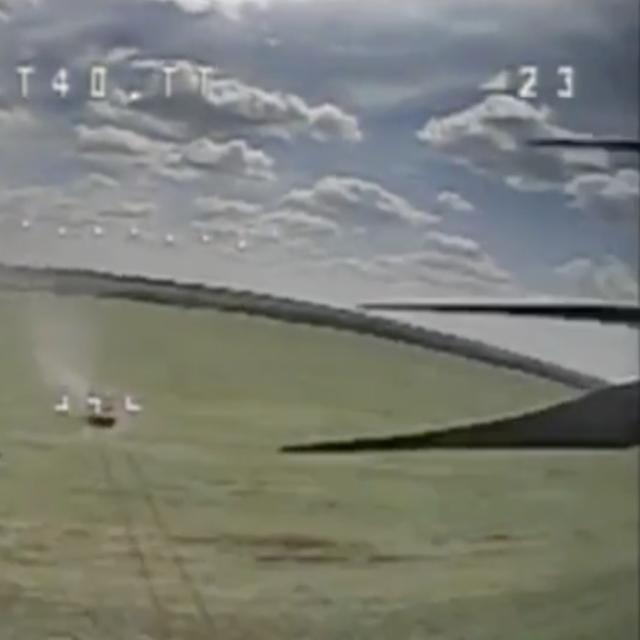vehicle: (88, 392, 116, 427)
